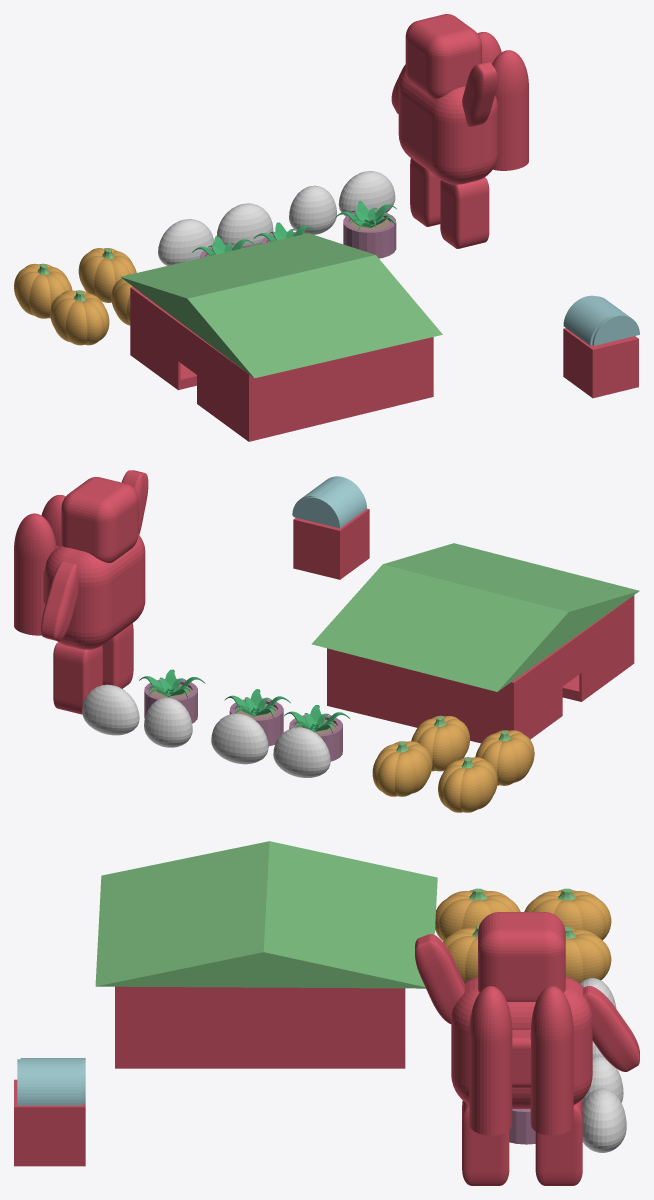
Rendered from harryhouse.fbx.
The picture shows the model from 3 angles, top to bottom: view 1: azimuth 30°, elevation 25°; view 2: azimuth 150°, elevation 25°; view 3: azimuth 270°, elevation 25°; orthographic projection. The views are drawn at different scales.
Parts seen in each view (by area): view 1: Mesh_Mesh_head_geo.001_lambert2SG.001; view 2: Mesh_Mesh_head_geo.001_lambert2SG.001; view 3: Mesh_Mesh_head_geo.001_lambert2SG.001.
Boxes of the visible parts, x1=… form: Mesh_Mesh_head_geo.001_lambert2SG.001: x1=14, y1=14, x2=639, y2=441; Mesh_Mesh_head_geo.001_lambert2SG.001: x1=14, y1=470, x2=639, y2=812; Mesh_Mesh_head_geo.001_lambert2SG.001: x1=14, y1=841, x2=639, y2=1185.
Bounding box in the file's own units: 20600 × 8548 × 19204.
